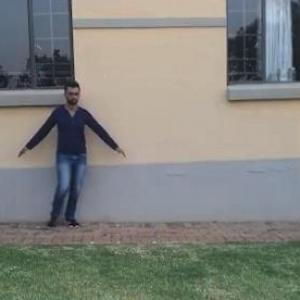land: (17, 82, 121, 239)
